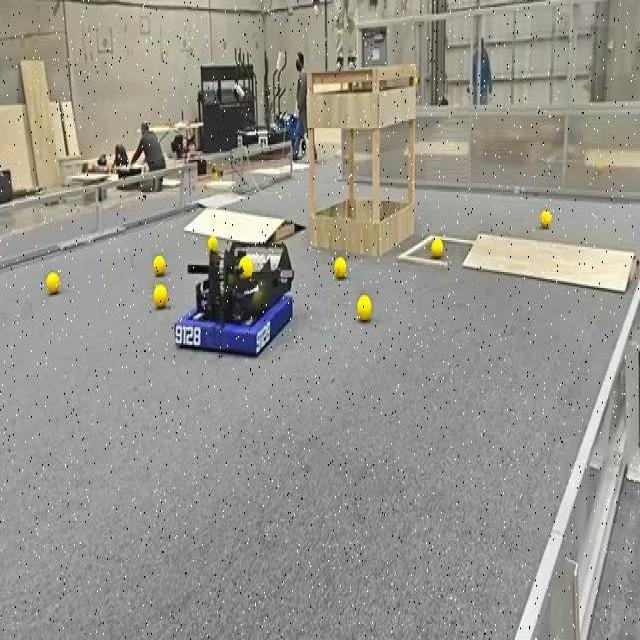Fuel: (356, 295, 372, 322), (153, 284, 167, 308), (153, 284, 167, 307), (45, 272, 59, 293), (333, 256, 346, 277), (239, 256, 252, 277), (153, 255, 166, 276), (153, 254, 165, 276), (430, 236, 442, 258), (540, 210, 551, 228), (207, 235, 218, 252)
